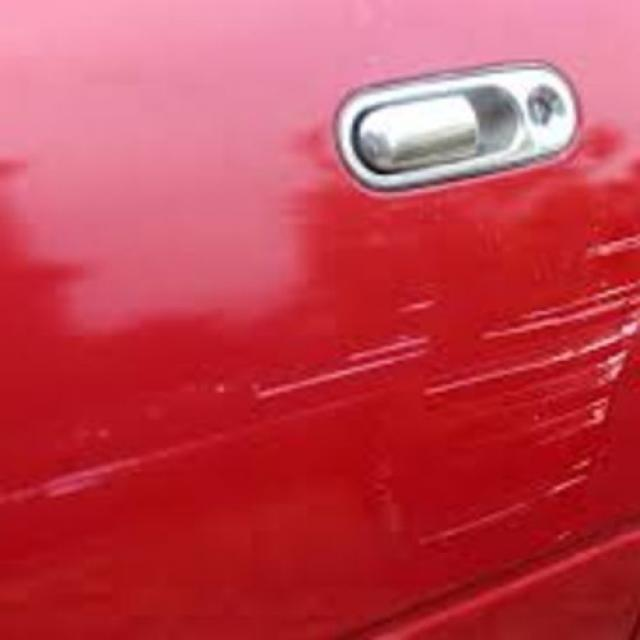scratch: (238, 220, 640, 556), (3, 423, 226, 512)
